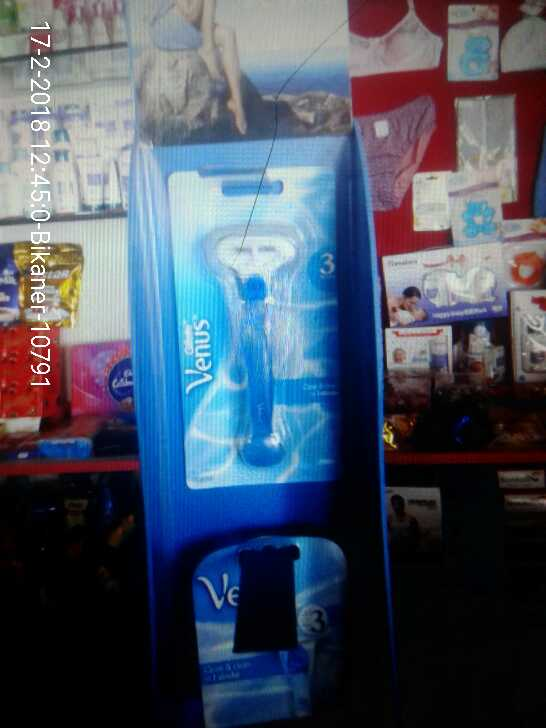venus: (174, 177, 340, 486), (185, 531, 357, 728)
